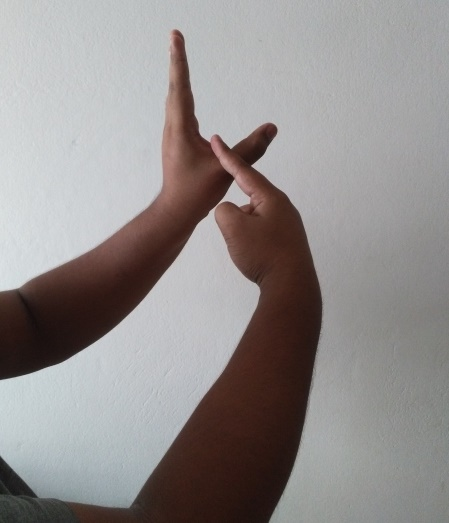dh: (159, 27, 318, 292)
